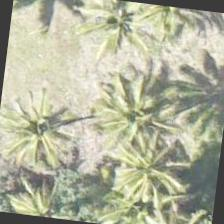Kelapa_Sawit: (78, 65, 178, 165), (0, 91, 94, 192), (99, 130, 200, 223), (50, 0, 148, 70), (114, 0, 210, 64), (87, 167, 185, 223), (0, 156, 78, 220)
